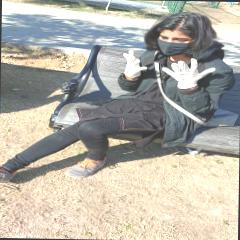gloved: (164, 58, 214, 90), (122, 50, 146, 78)
